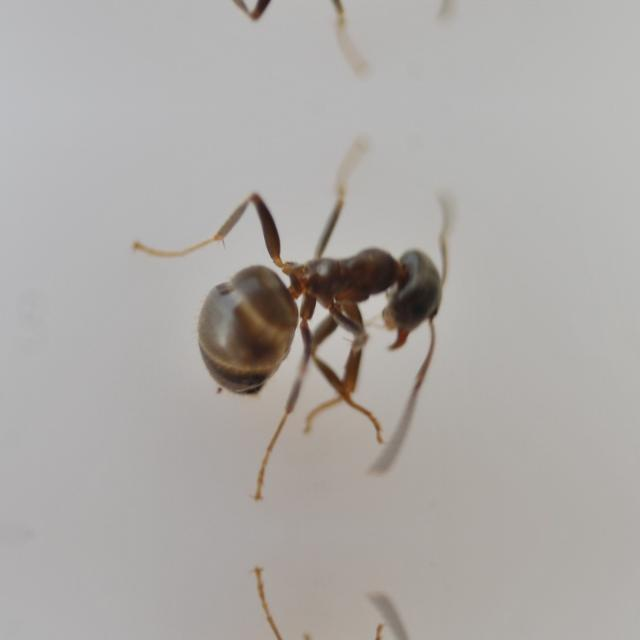Lasius: (168, 192, 466, 420)
